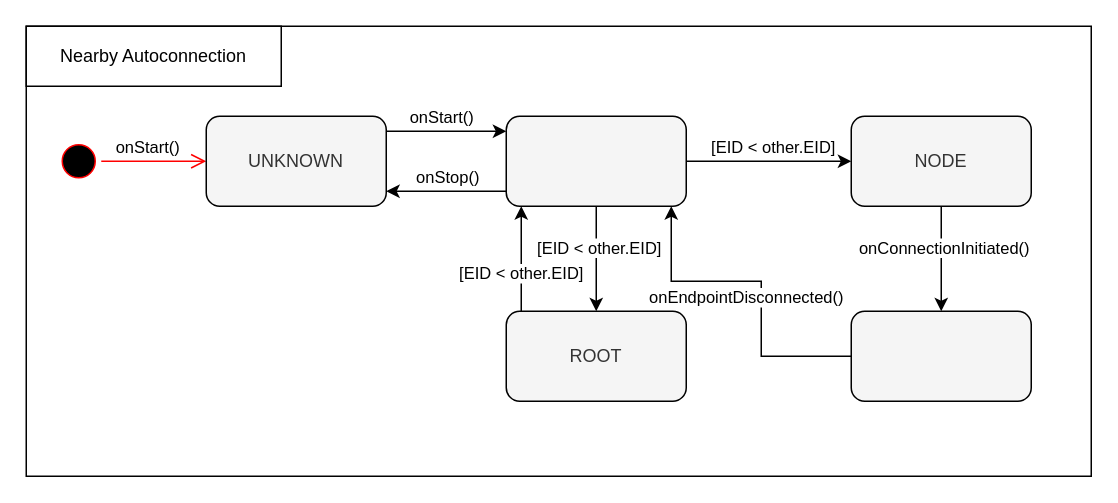
This 1118x503 diagram has some shape labels left out. Here are the shapes that lost their labels. From the top down, the centre of each, then its label:
At point 595,160: "FINDROOT".
At point 940,355: "CONNODE".
